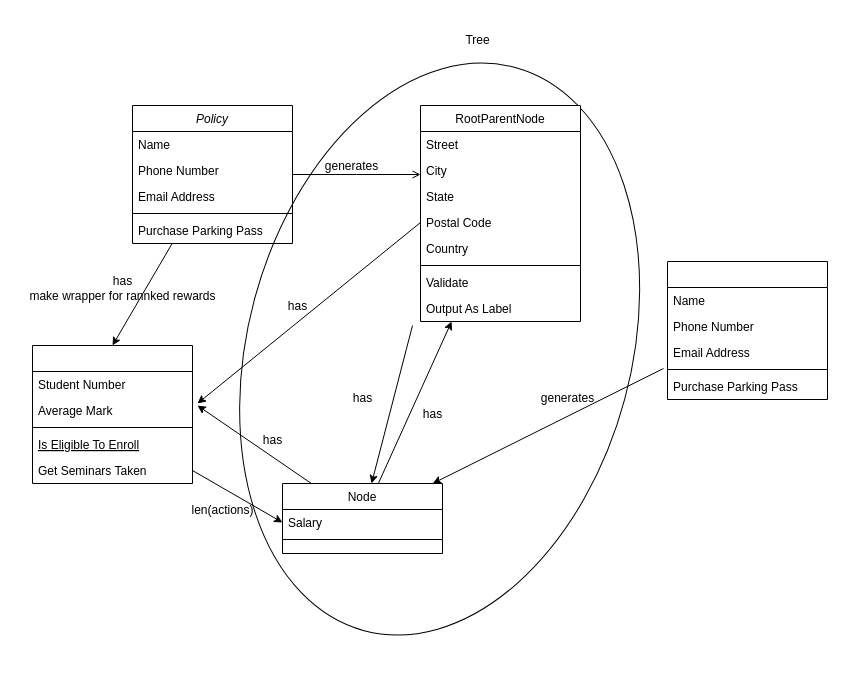
This 845x698 diagram has some shape labels left out. The shapes that lost their labels are listed below. From the top down, each one's box as (x1, y1, x2, y2) in pixels, then its label:
(666, 260, 828, 400): mcts
(32, 344, 192, 484): env
